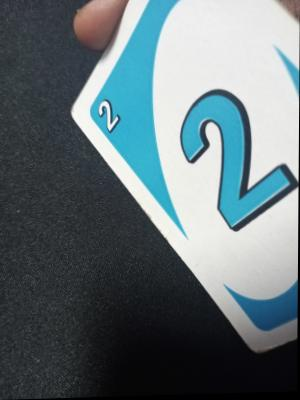blue: (103, 60, 293, 209)
num_2: (87, 93, 128, 143)
